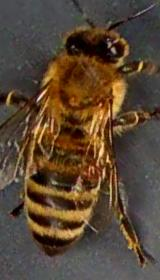varroa_mite: (78, 148, 112, 186)
